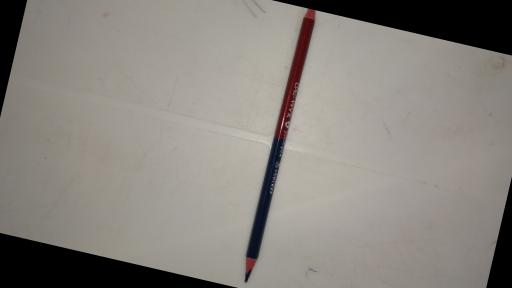Pencil: (239, 7, 316, 285)
